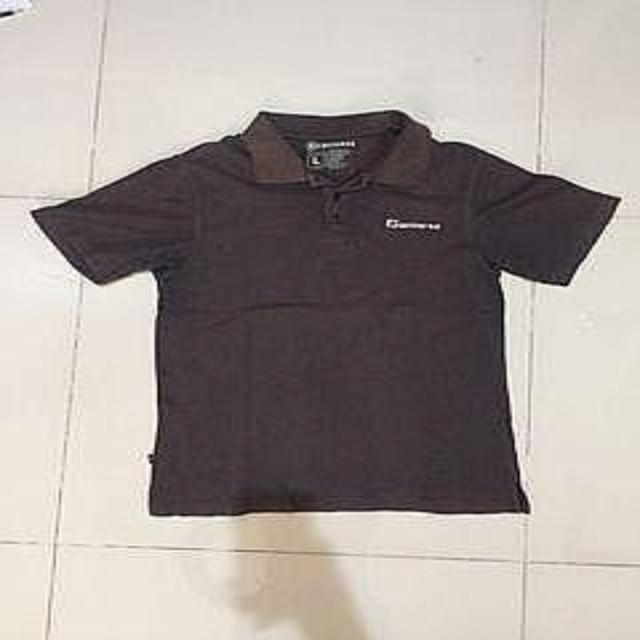T_SHIRT: (21, 96, 632, 536)
